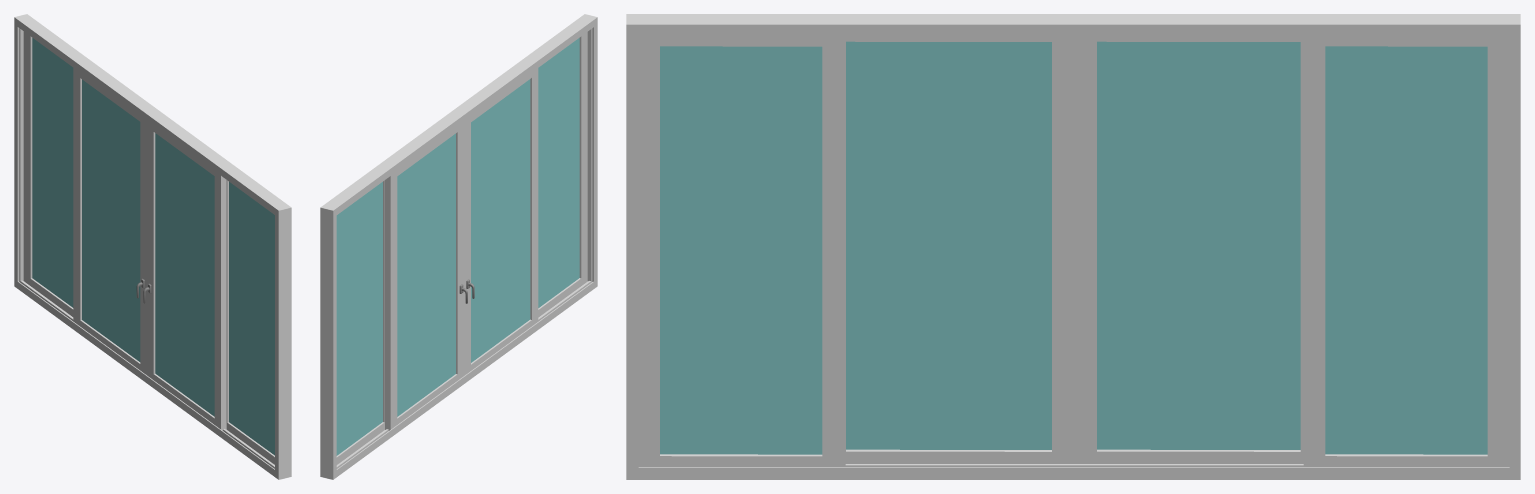
The model's file is WindowRear1.fbx.
3 renders of one model, left to right at view 1: azimuth 30°, elevation 25°; view 2: azimuth 150°, elevation 25°; view 3: azimuth 270°, elevation 25°, orthographic. The views are drawn at different scales.
Visible parts, largest first — view 1: WindowRear, Box032, Box034, Box023, Box033, InLeft013, InLeft015, InLeft014, InLeft006; view 2: WindowRear, Box032, Box034, Box033, Box023, InLeft015, InLeft013, InLeft006, InLeft014; view 3: Box032, Box034, Box033, Box023, WindowRear, InLeft006, InLeft014, InLeft015, InLeft013.
Part boxes in pixels (bbox=[...]): WindowRear: bbox=[14, 14, 291, 479]; Box032: bbox=[155, 133, 214, 416]; Box034: bbox=[82, 79, 140, 361]; Box023: bbox=[229, 182, 274, 455]; Box033: bbox=[32, 38, 73, 307]; InLeft013: bbox=[147, 122, 226, 430]; InLeft015: bbox=[73, 68, 146, 374]; InLeft014: bbox=[23, 31, 73, 316]; InLeft006: bbox=[226, 180, 274, 464]; WindowRear: bbox=[320, 14, 597, 479]; Box032: bbox=[471, 79, 530, 362]; Box034: bbox=[397, 133, 455, 416]; Box033: bbox=[336, 182, 382, 455]; Box023: bbox=[538, 38, 579, 307]; InLeft015: bbox=[385, 122, 463, 430]; InLeft013: bbox=[464, 68, 538, 375]; InLeft006: bbox=[538, 32, 587, 317]; InLeft014: bbox=[336, 180, 384, 464]; Box032: bbox=[846, 41, 1051, 449]; Box034: bbox=[1097, 41, 1300, 449]; Box033: bbox=[1325, 46, 1487, 454]; Box023: bbox=[660, 46, 822, 454]; WindowRear: bbox=[626, 14, 1520, 479]; InLeft006: bbox=[638, 37, 845, 466]; InLeft014: bbox=[1303, 37, 1509, 466]; InLeft015: bbox=[1075, 37, 1303, 463]; InLeft013: bbox=[845, 37, 1075, 463].
Bounding box in the file's own units: 8.07 × 110 × 196.
